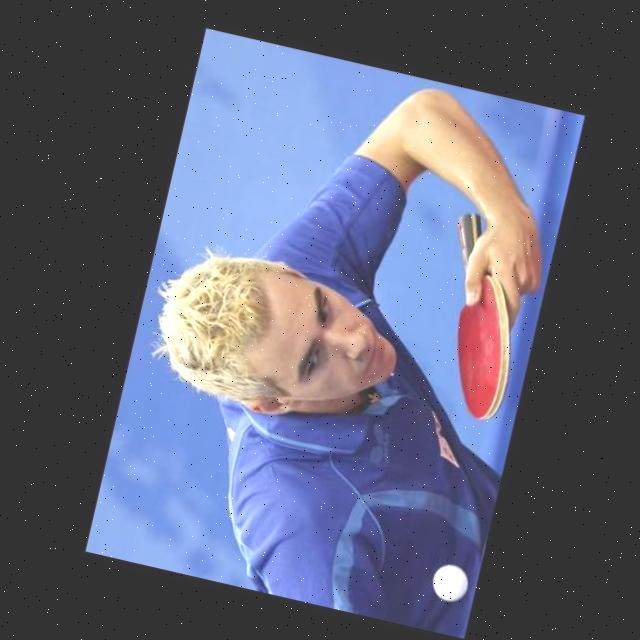ping-pong-ball: (428, 560, 472, 605)
